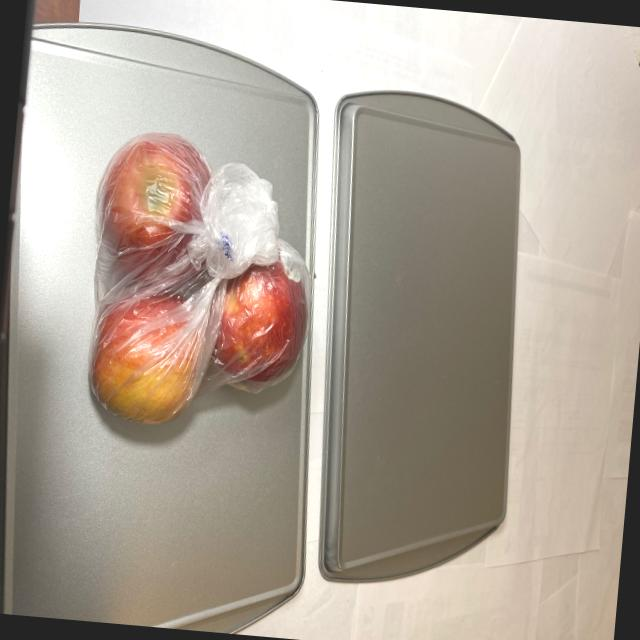apple: (73, 128, 325, 450)
